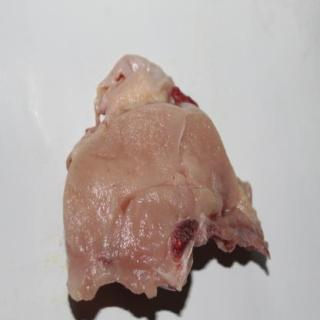Ayam: (65, 56, 269, 302)
